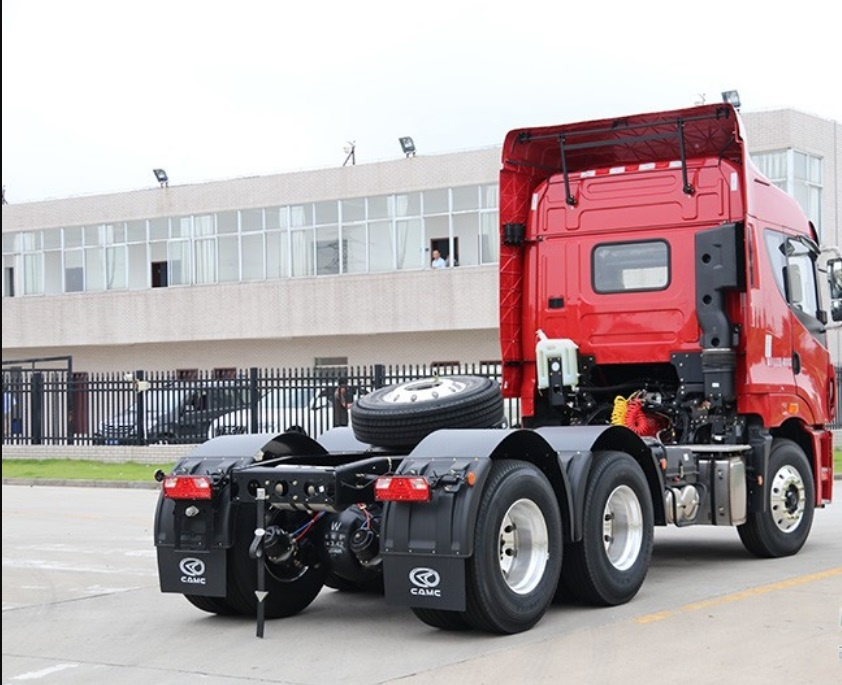heavy truck: (159, 93, 816, 633)
